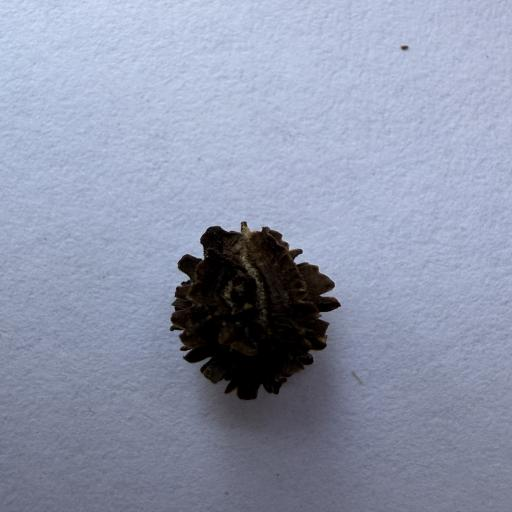papaya_seed: (147, 211, 359, 408)
